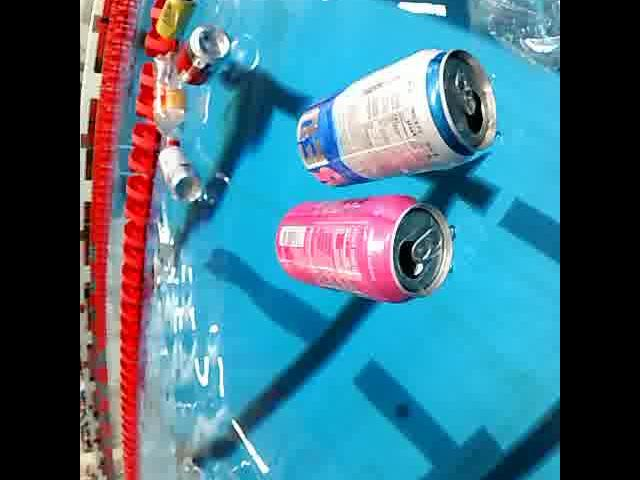Bottle: (390, 0, 560, 78), (150, 48, 187, 153)
Can: (294, 39, 502, 187), (264, 182, 460, 306), (174, 12, 234, 90), (154, 136, 204, 208), (153, 0, 199, 40)
